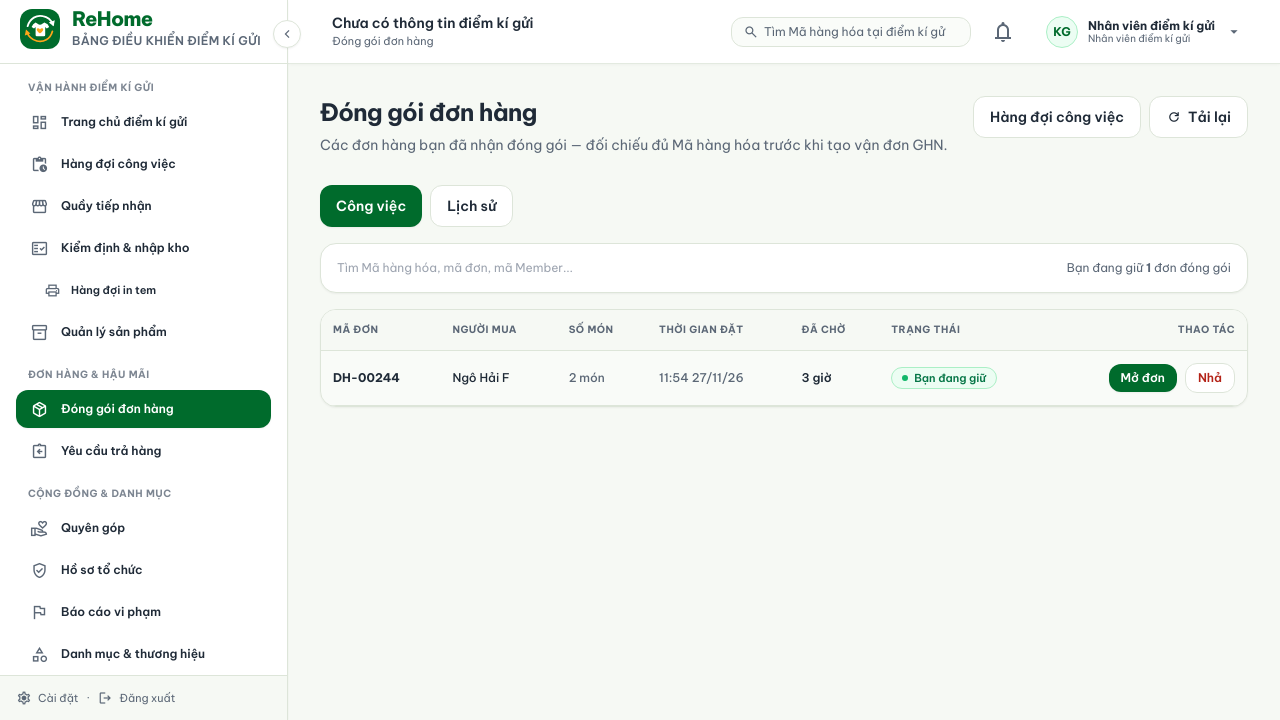
it: L-04 Phase 4: Mock API Integration Suite (APIs 68-72) › Releasing an order from PackingOrdersPage removes it from tab Công việc and shows empty state link
Expected: the text "DH-00244" is shown, [321,350,440,405]
Click the button "Nhả": (1210, 378) [1185,363,1235,393]
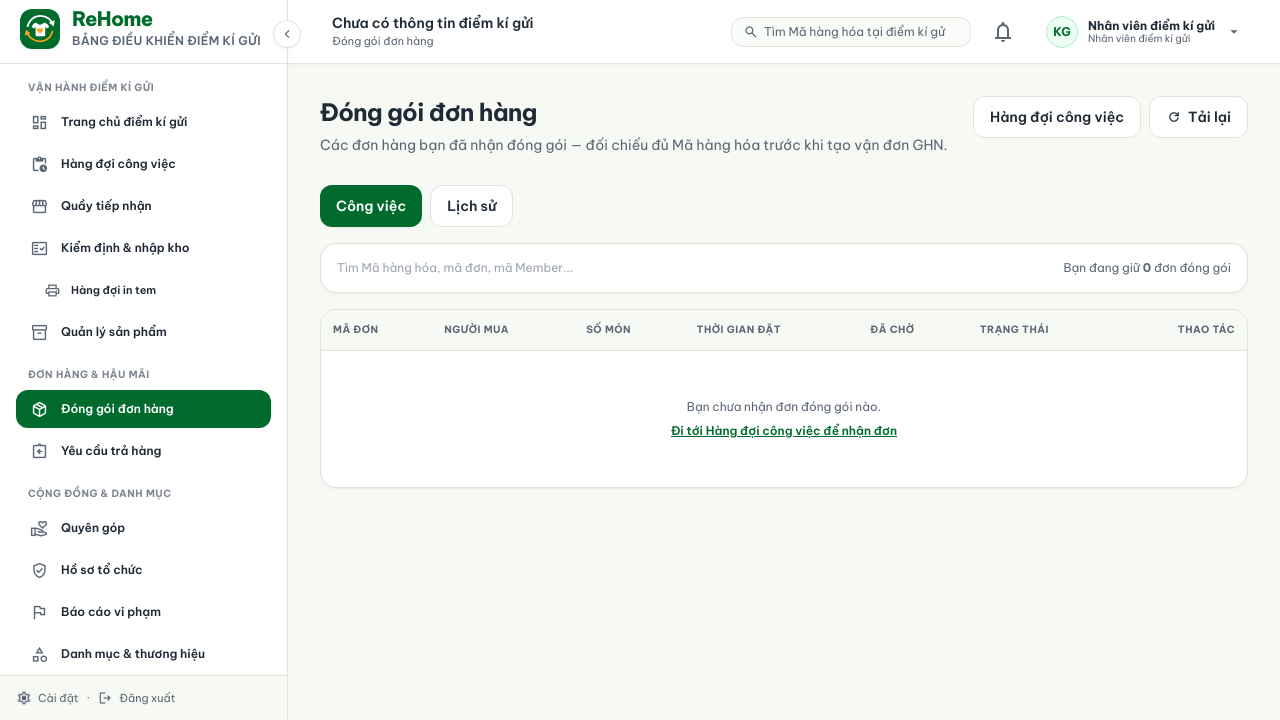
Expected: the text "Bạn chưa nhận đơn đóng gói nào." is shown, [687,399,881,414]
Expected: the text "DH-00244" is gone
